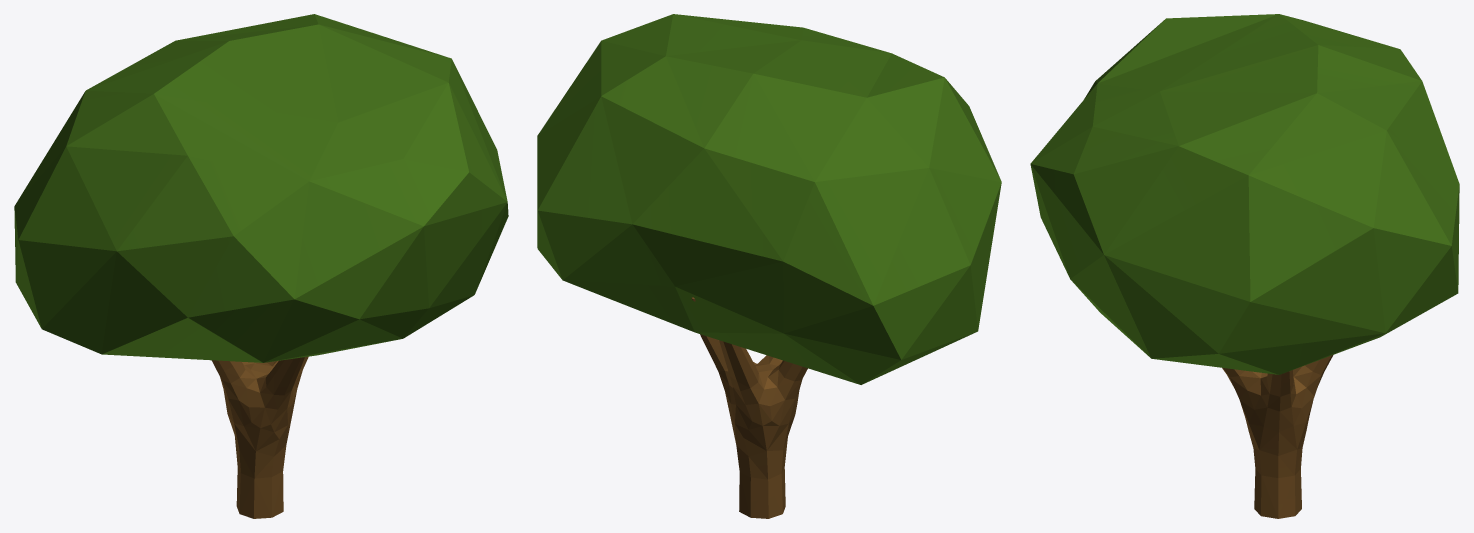
File: 3Stad.fbx
The picture shows the model from 3 angles, left to right: view 1: azimuth 30°, elevation 25°; view 2: azimuth 150°, elevation 25°; view 3: azimuth 270°, elevation 25°; orthographic projection.
Visible parts, largest first — view 1: Cube.021; view 2: Cube.021; view 3: Cube.021.
Part boxes in pixels (x1=…): Cube.021: x1=14, y1=14, x2=508, y2=518; Cube.021: x1=537, y1=14, x2=1001, y2=518; Cube.021: x1=1030, y1=14, x2=1459, y2=518.
Bounding box in the file's own units: 129 × 126 × 106.
